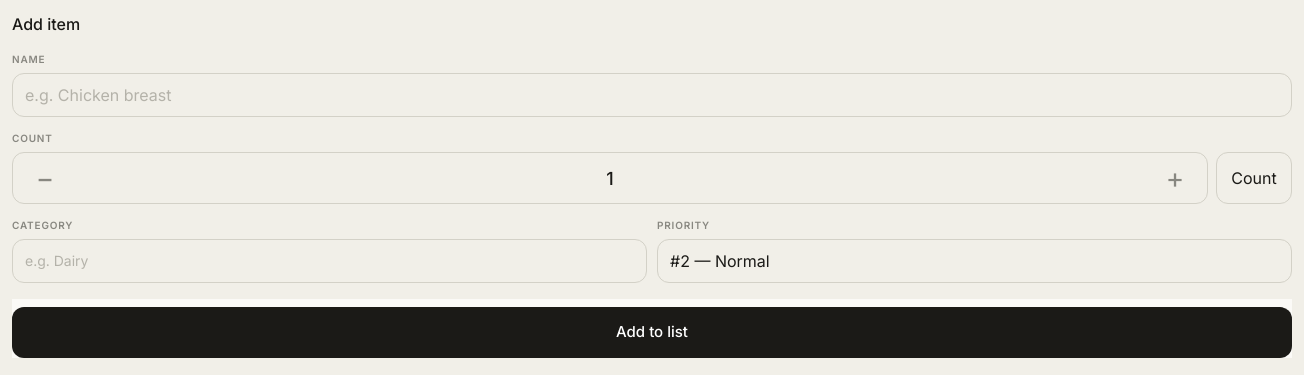
Test: AddItemForm › typing a partial match shows both "Chocolate" and "Chocolate milk" suggestions
This screenshot has width=1304, height=375.
In the dropdown with placeholder "e.g. Chicken breast": (652, 95) [12,73,1292,117], type "choc"
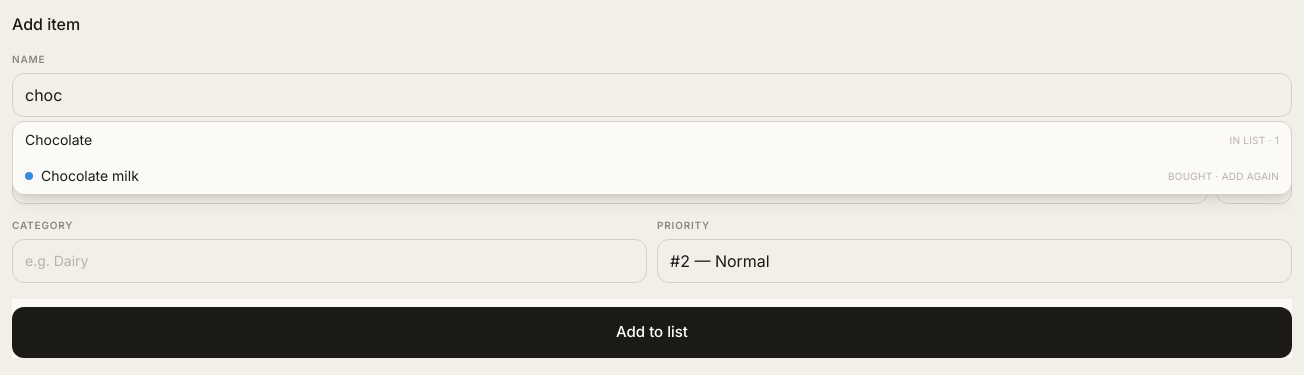
Expected: the text "Chocolate" is shown, [25,130,92,150]
Expected: the text "Chocolate milk" is shown, [41,166,139,186]
